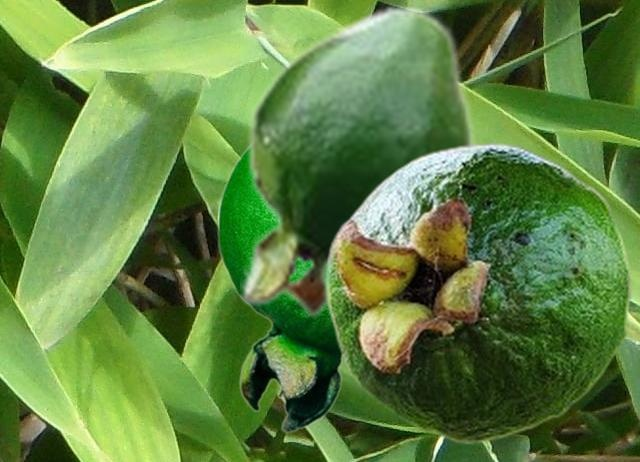guava: (324, 142, 632, 444), (240, 3, 474, 319), (216, 148, 345, 432)
